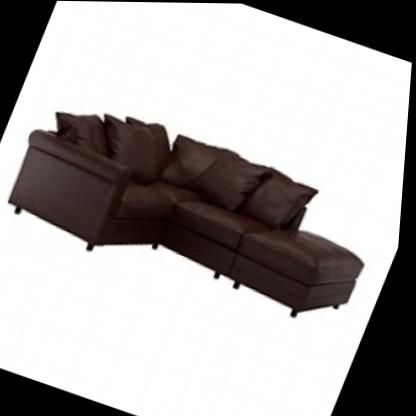Sofa: (0, 68, 407, 357)
